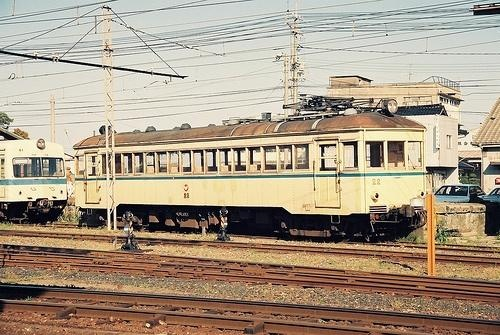train: (72, 97, 431, 242), (1, 137, 71, 226)
